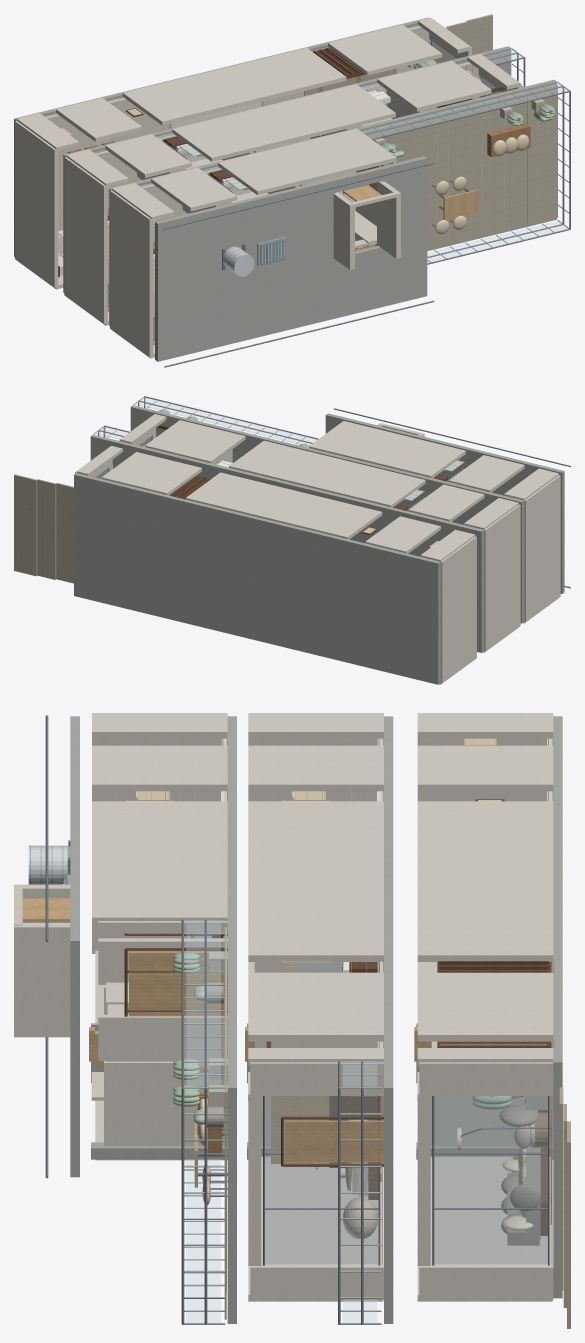
File: NHA_V20_CUTAWAY_CO_NOI_THAT.glb
3 renders of one model, top to bottom at view 1: azimuth 30°, elevation 25°; view 2: azimuth 150°, elevation 25°; view 3: azimuth 270°, elevation 25°, orthographic. The views are drawn at different scales.
Visible parts, largest first — view 1: F3__ROOF__roof_cover_rear, F2__TERRACE__terrace_deck, F3__ROOF__roof_cover_stair_left, F0__SHELL__rear_wall, F2__SHELL__rear_wall, F1__SHELL__rear_wall, F2__SHELL_NEAR__south_wall_7, F1__SHELL_NEAR__south_wall_7, F0__SHELL_NEAR__south_wall_7, F0__SHELL_NEAR__south_wall_14.15, F1__SHELL_NEAR__south_wall_14.15, F0__SHELL_NEAR__south_wall_4.82 (+36 smaller); view 2: F0__SLAB__architectural_floor_slab, F1__SLAB__architectural_floor_slab, F1__SHELL__rear_wall, F0__SHELL__rear_wall, F2__SHELL__rear_wall, F2__SLAB__architectural_floor_slab, F0__SHELL_NEAR__south_wall_7, F1__SHELL_NEAR__south_wall_7, F2__SHELL_NEAR__south_wall_7, F0__SHELL_NEAR__south_wall_14.15, F1__SHELL_NEAR__south_wall_14.15, F0__EXTERIOR__front_tread_3 (+21 smaller); view 3: F0__GLASS__front_sliding_glazing, F1__GLASS__front_sliding_glazing, F2__SHELL_NEAR__south_wall_7, F0__SHELL_NEAR__south_wall_7, F1__SHELL_NEAR__south_wall_7, F0__SHELL__north_boundary_wall, F1__SHELL__north_boundary_wall, F0__SHELL_NEAR__south_wall_14.15, F1__SHELL_NEAR__south_wall_14.15, F2__CORE__stair_core_return_11.13, F3__ROOF_ACCESS__rooftop_access_wall_10.2, F0__SHELL_NEAR__south_wall_1.78 (+62 smaller).
Part boxes in pixels (x1,y1,x2,y2): F3__ROOF__roof_cover_rear: (155,184,311,361); F2__TERRACE__terrace_deck: (363,85,557,249); F3__ROOF__roof_cover_stair_left: (311,236,427,324); F0__SHELL__rear_wall: (15,120,58,287); F2__SHELL__rear_wall: (110,190,153,357); F1__SHELL__rear_wall: (64,157,107,324); F2__SHELL_NEAR__south_wall_7: (266,128,396,183); F1__SHELL_NEAR__south_wall_7: (220,95,350,149); F0__SHELL_NEAR__south_wall_7: (171,59,301,113); F0__SHELL_NEAR__south_wall_14.15: (328,24,442,75); F1__SHELL_NEAR__south_wall_14.15: (377,61,491,111); F0__SHELL_NEAR__south_wall_4.82: (122,81,210,125); F0__SLAB__architectural_floor_slab: (74,473,440,684); F1__SLAB__architectural_floor_slab: (117,441,483,652); F1__SHELL__rear_wall: (484,504,520,651); F0__SHELL__rear_wall: (440,536,476,683); F2__SHELL__rear_wall: (524,475,560,621); F2__SLAB__architectural_floor_slab: (157,411,524,623); F0__SHELL_NEAR__south_wall_7: (225,482,339,528); F1__SHELL_NEAR__south_wall_7: (268,450,383,496); F2__SHELL_NEAR__south_wall_7: (309,421,423,467); F0__SHELL_NEAR__south_wall_14.15: (101,452,201,495); F1__SHELL_NEAR__south_wall_14.15: (145,420,245,463); F0__EXTERIOR__front_tread_3: (14,474,37,575); F0__GLASS__front_sliding_glazing: (434,1096,547,1264); F1__GLASS__front_sliding_glazing: (265,1096,378,1264); F2__SHELL_NEAR__south_wall_7: (92,841,227,924); F0__SHELL_NEAR__south_wall_7: (417,841,553,917); F1__SHELL_NEAR__south_wall_7: (248,841,383,917); F0__SHELL__north_boundary_wall: (417,962,552,1301); F1__SHELL__north_boundary_wall: (248,962,383,1301); F0__SHELL_NEAR__south_wall_14.15: (417,972,553,1041); F1__SHELL_NEAR__south_wall_14.15: (248,972,383,1041); F2__CORE__stair_core_return_11.13: (104,1061,227,1146); F3__ROOF_ACCESS__rooftop_access_wall_10.2: (14,923,70,1037); F0__SHELL_NEAR__south_wall_1.78: (417,745,553,791).
Size of the model in its own units: 21.94 by 6.17 by 12.83.
37 materials, 20 textured.
